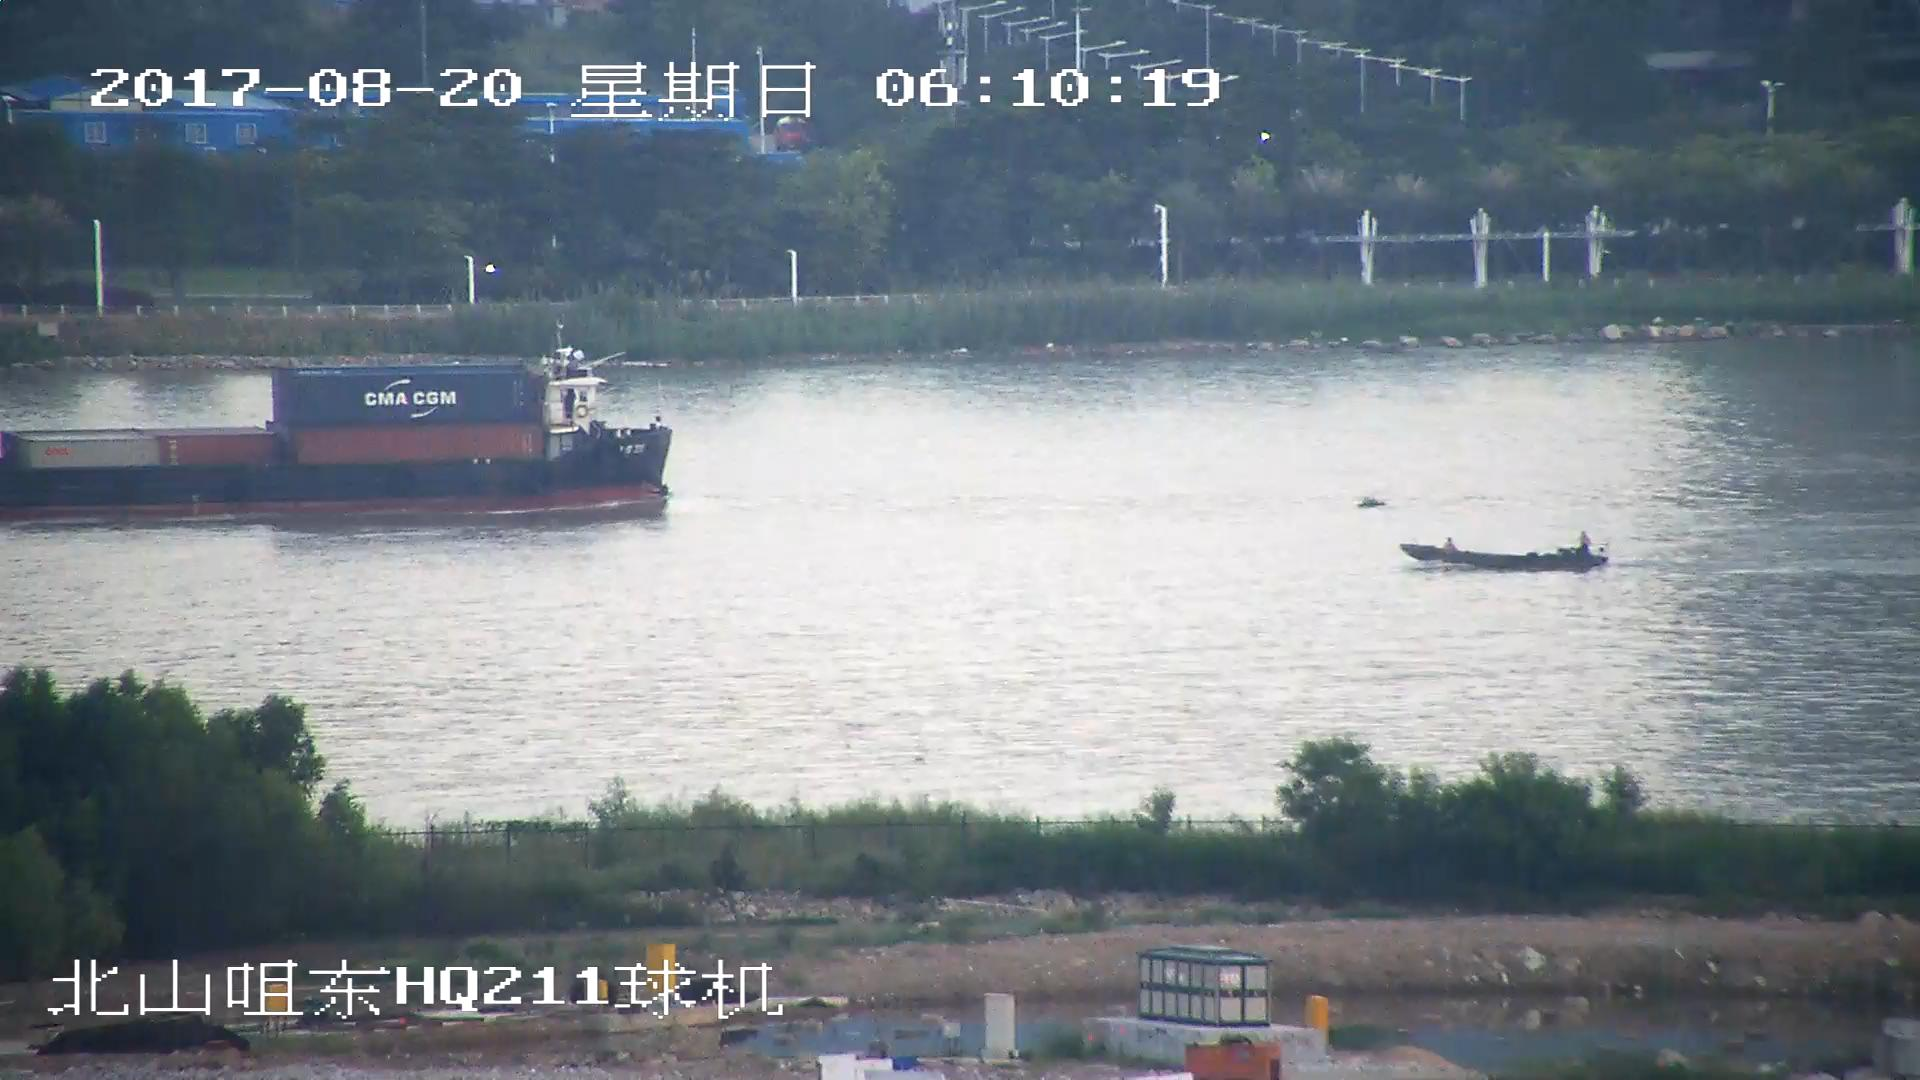container ship: (1, 322, 672, 506)
fishing boat: (1397, 529, 1606, 576)
